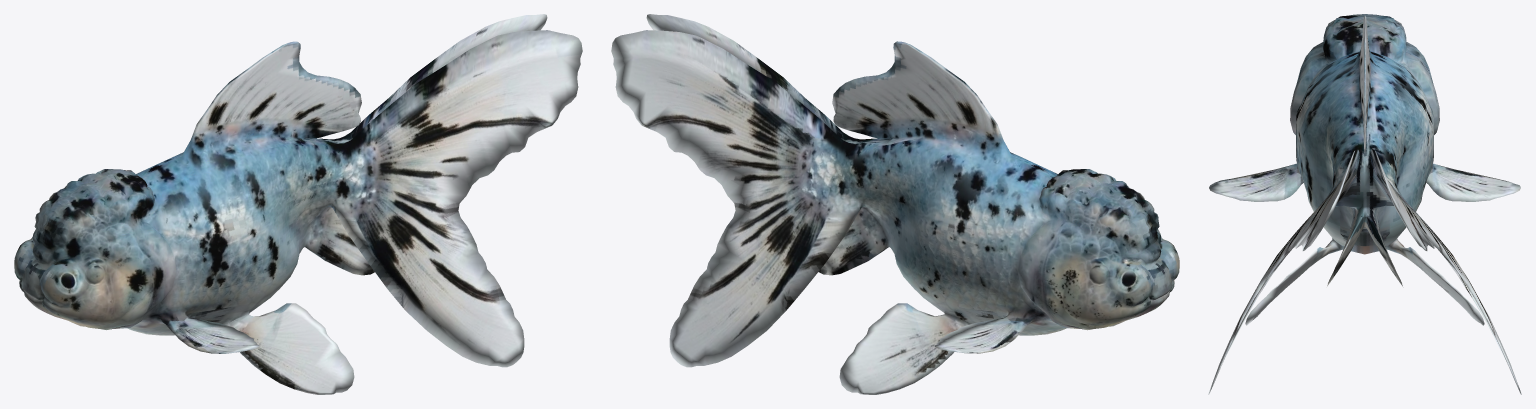
File: fish.glb
The picture shows the model from 3 angles, left to right: view 1: azimuth 30°, elevation 25°; view 2: azimuth 150°, elevation 25°; view 3: azimuth 270°, elevation 25°; orthographic projection.
Parts seen in each view (by area): view 1: fish; view 2: fish; view 3: fish.
Boxes of the visible parts, <box> form: fish: <box>14,14,582,394</box>; fish: <box>611,14,1179,394</box>; fish: <box>1208,14,1521,394</box>.
Bounding box in the file's own units: 0.12 × 0.0655 × 0.06.
1 material, 1 textured.
